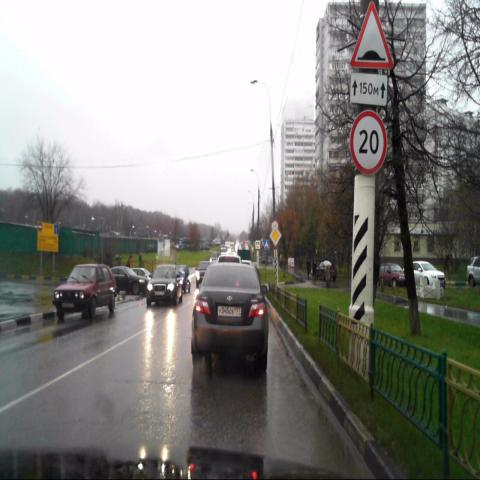8_2_1: (349, 72, 388, 107)
